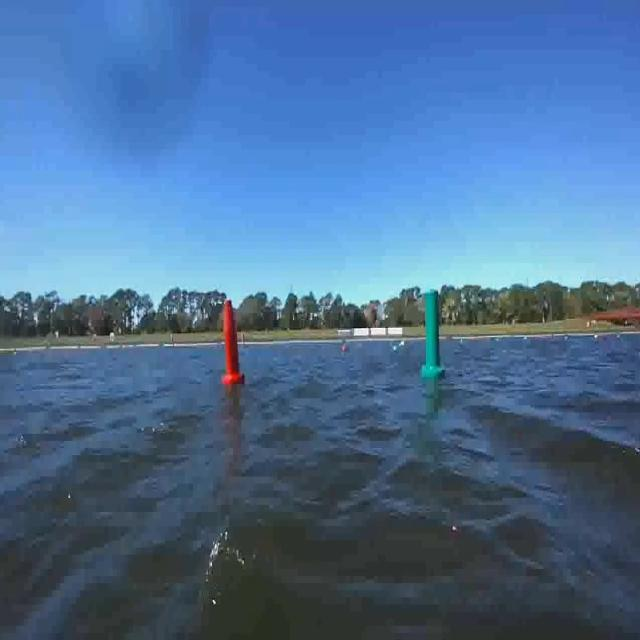green-column-buoy: (421, 289, 445, 380)
red-column-buoy: (222, 298, 246, 386)
